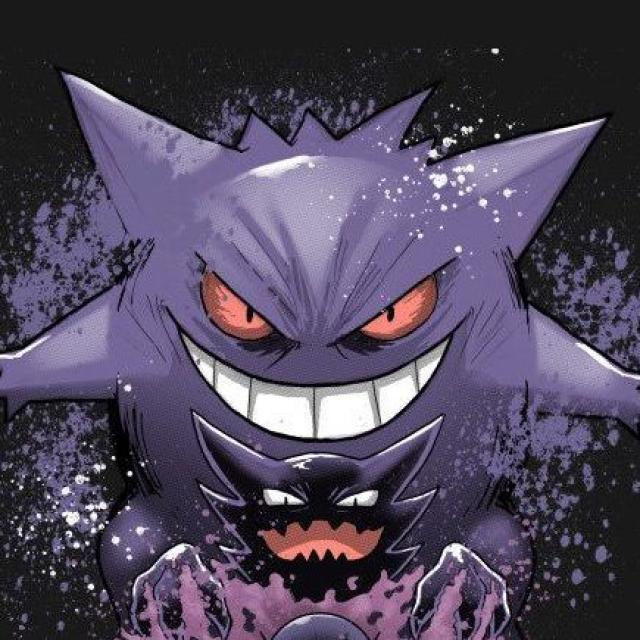Gengar: (9, 118, 629, 529)
Haunter: (132, 433, 508, 635)
